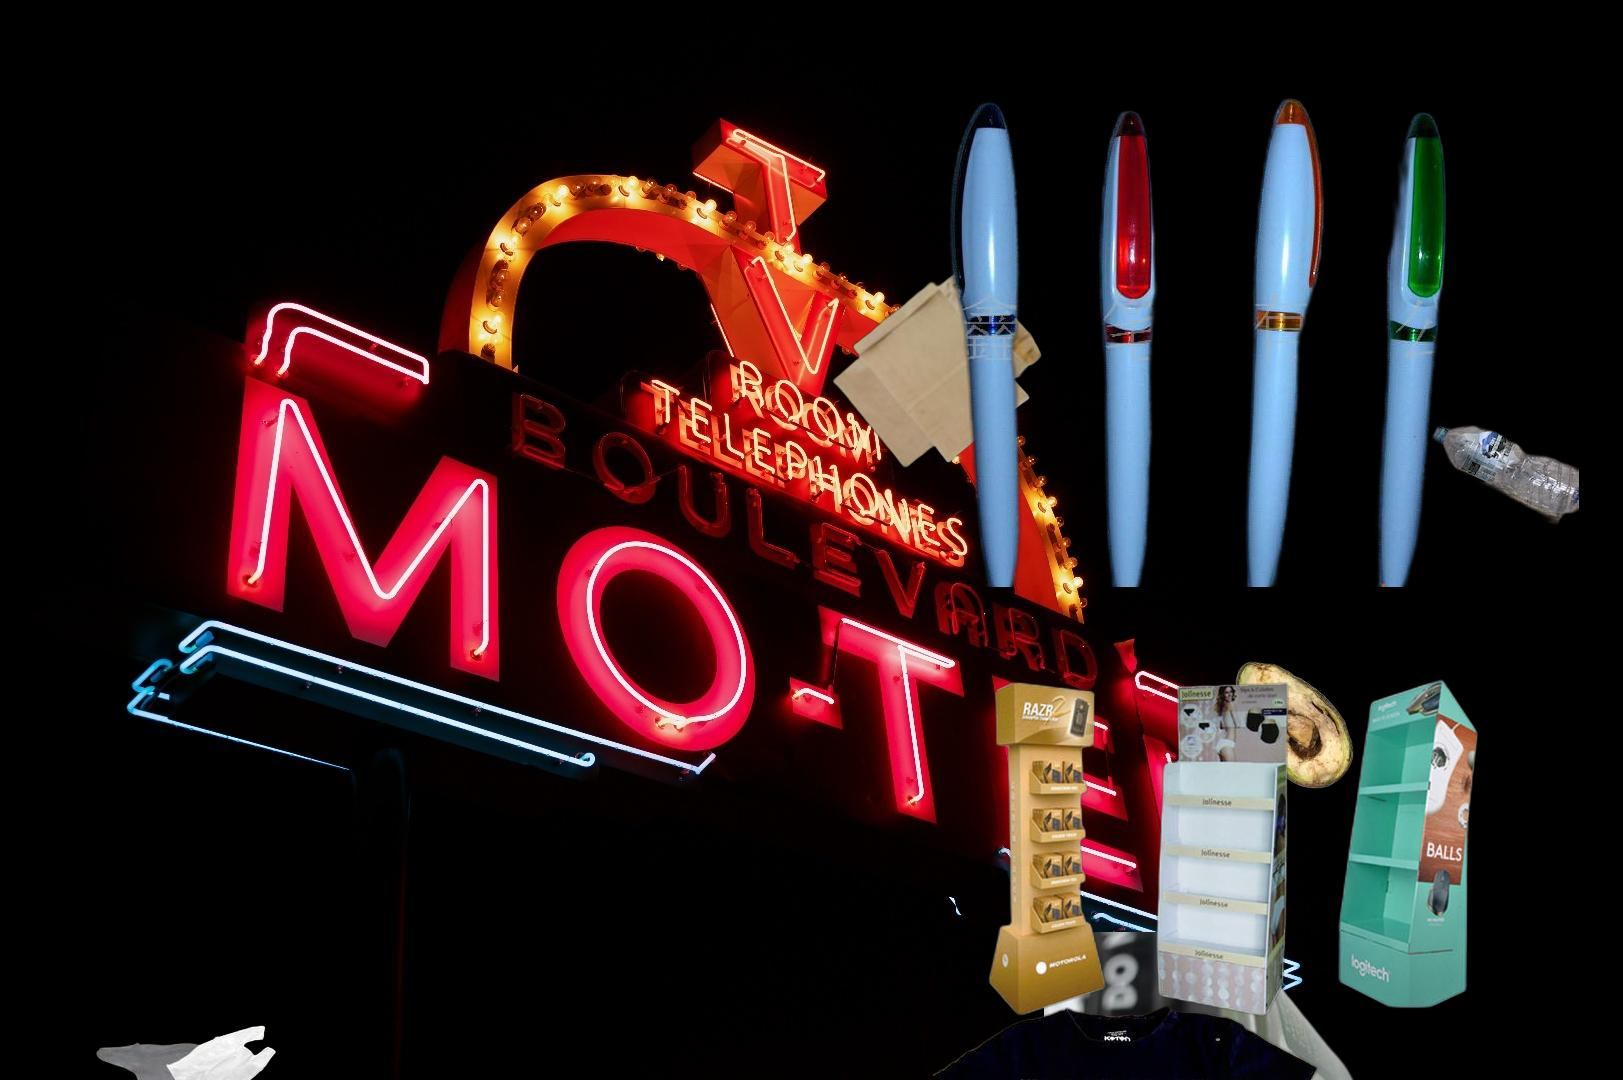biological: (1233, 659, 1356, 791)
clothes: (933, 959, 1333, 1080)
glass: (1044, 932, 1366, 1080)
paper-bag: (830, 269, 1045, 471)
penholder: (943, 92, 1454, 587)
plastic-bag: (86, 1022, 277, 1080)
plastic-bottles: (1427, 420, 1579, 771)
trashbox-cardboard: (984, 675, 1483, 1020)
